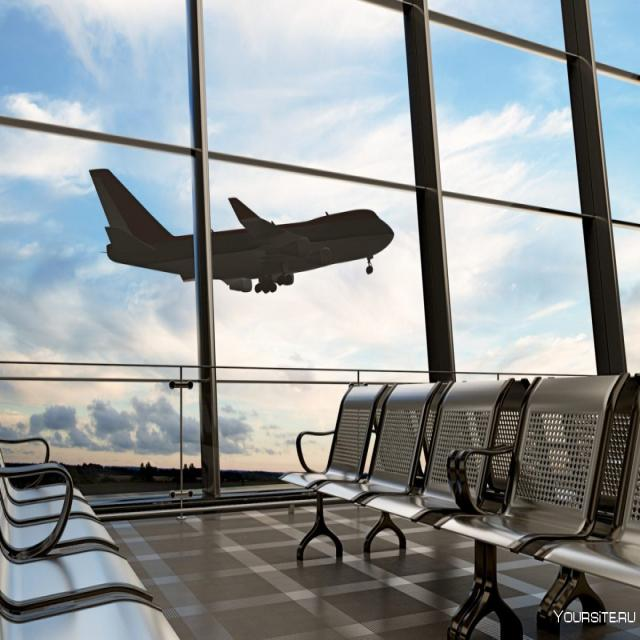plain: (84, 154, 405, 305)
